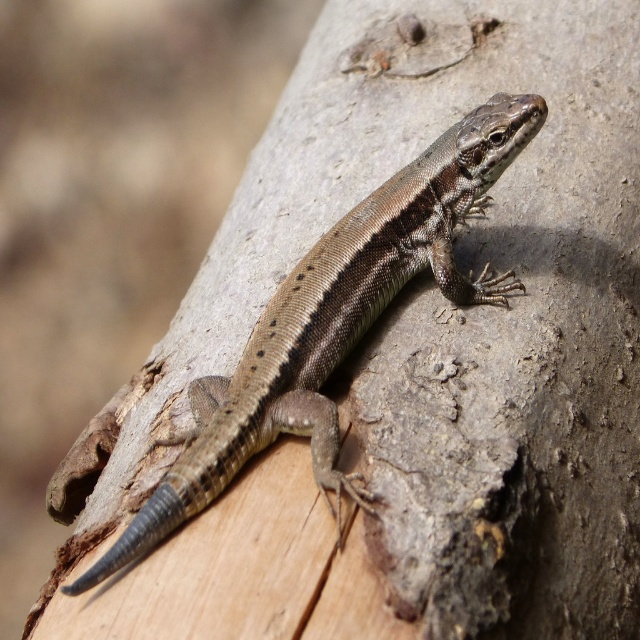Lizard: (60, 92, 548, 597)
